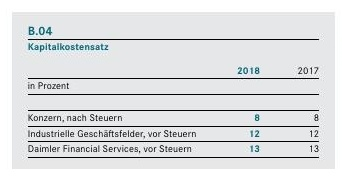table: (0, 0, 342, 179)
